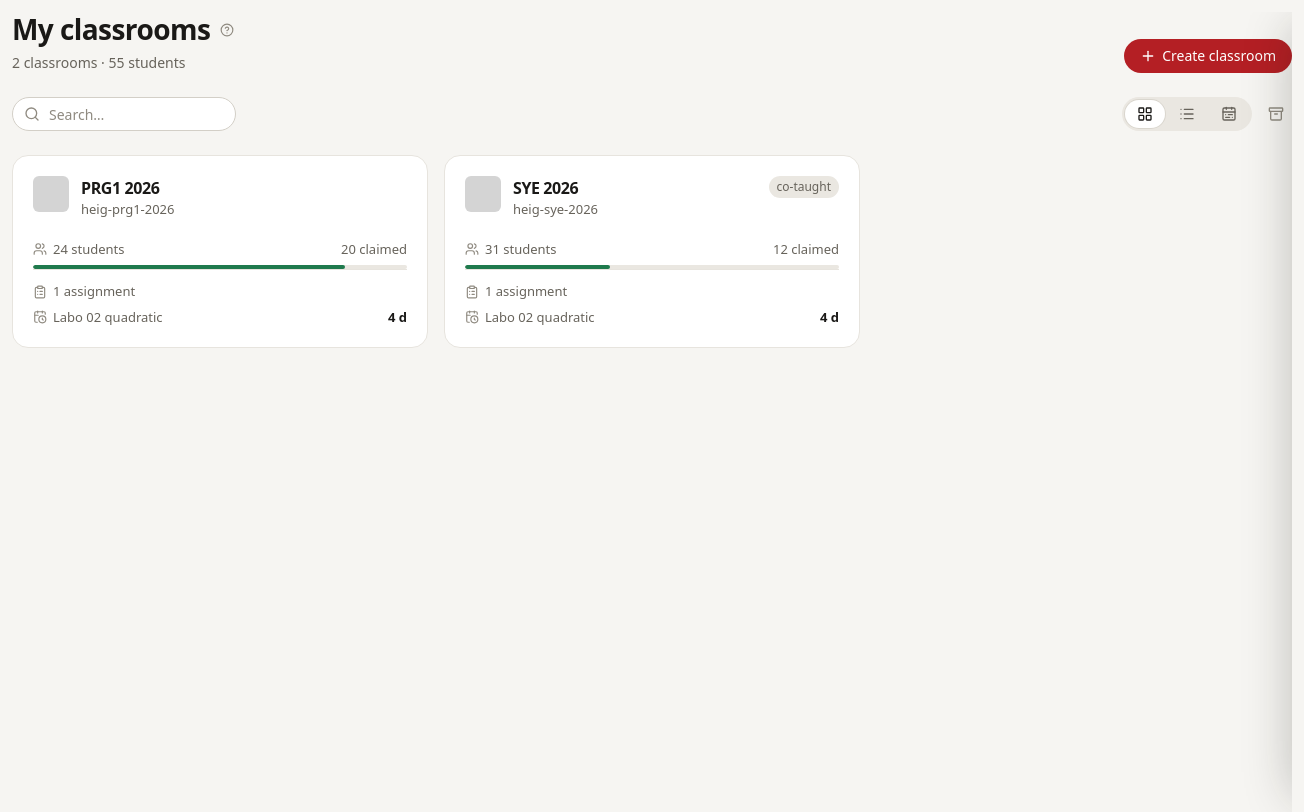
Scenario: TeacherHome › browses the archives on demand, through their own endpoint
Expected: the heading "PRG1 2026" is shown, [81,177,160,199]
What coordinates should you click on to do the following:
click the button named "Archives"
I would click on:
 (1276, 114)
Its box is [1260,98,1292,130].
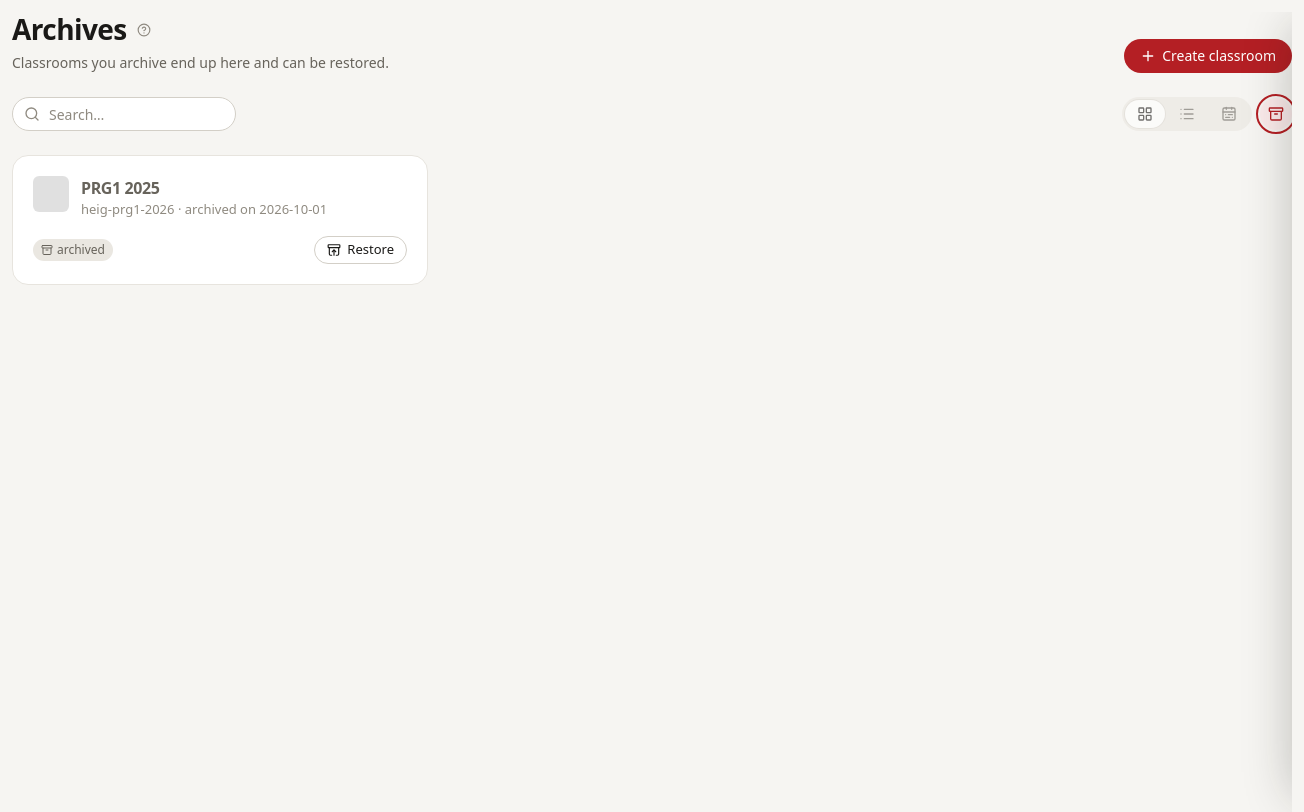
Expected: the heading "PRG1 2025" is shown, [81,177,160,199]
Expected: the button "SYE 2026" is gone
